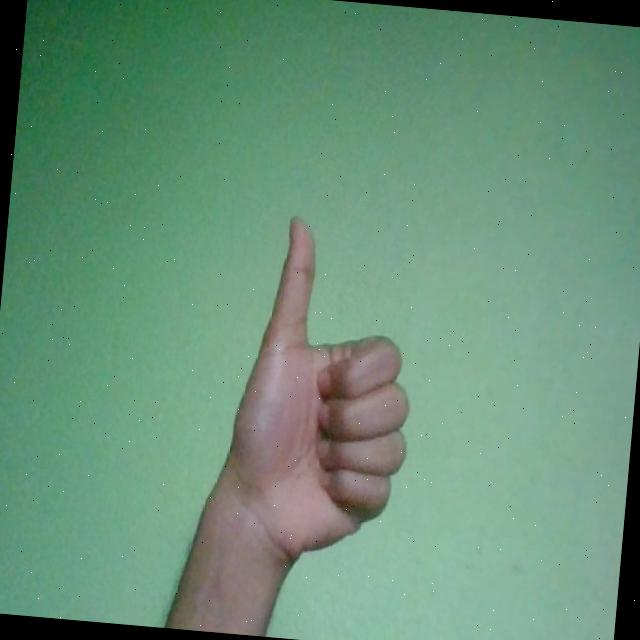Good Job: (219, 212, 426, 578)
